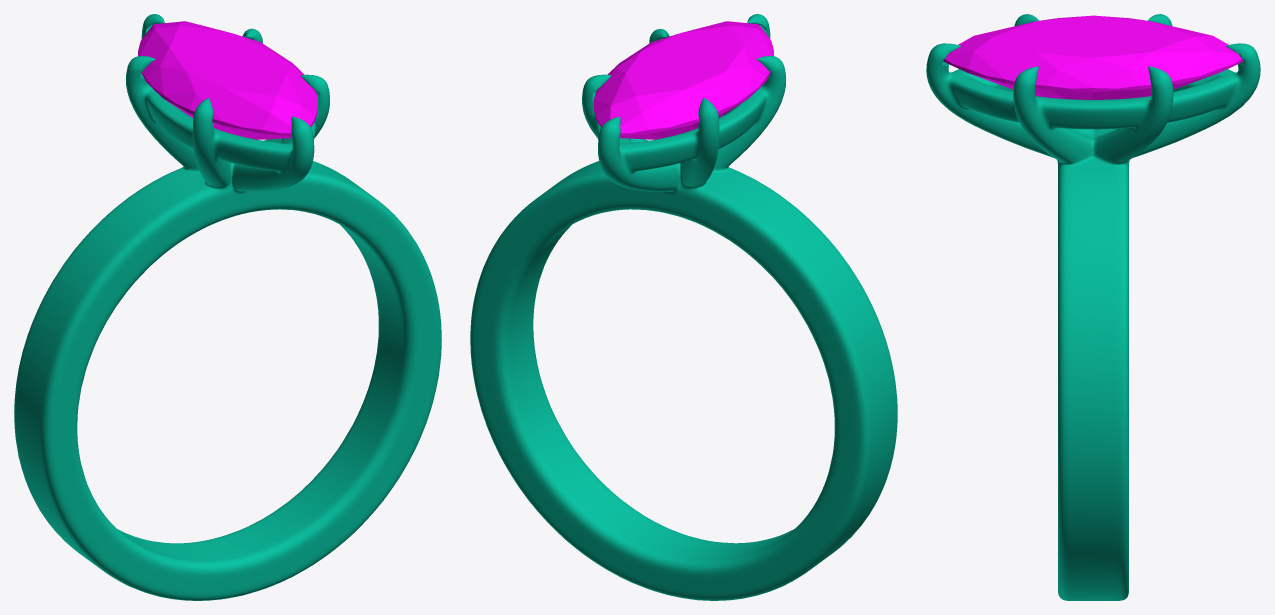
Rendered from BE1182_MQ_200ct_RENDER.glb.
3 views of the same model, side by side, from view 1: azimuth 30°, elevation 25°; view 2: azimuth 150°, elevation 25°; view 3: azimuth 270°, elevation 25° (orthographic). The views are drawn at different scales.
Parts seen in each view (by area): view 1: Metal 01, CS_Diamond_Marquise; view 2: Metal 01, CS_Diamond_Marquise; view 3: Metal 01, CS_Diamond_Marquise.
Part boxes in pixels (bbox=[...]): Metal 01: bbox=[14, 14, 441, 600]; CS_Diamond_Marquise: bbox=[138, 21, 317, 139]; Metal 01: bbox=[470, 14, 897, 600]; CS_Diamond_Marquise: bbox=[594, 21, 773, 139]; Metal 01: bbox=[926, 14, 1260, 600]; CS_Diamond_Marquise: bbox=[943, 15, 1243, 99].
Size of the model in its own units: 20.1 by 25.22 by 14.1.
